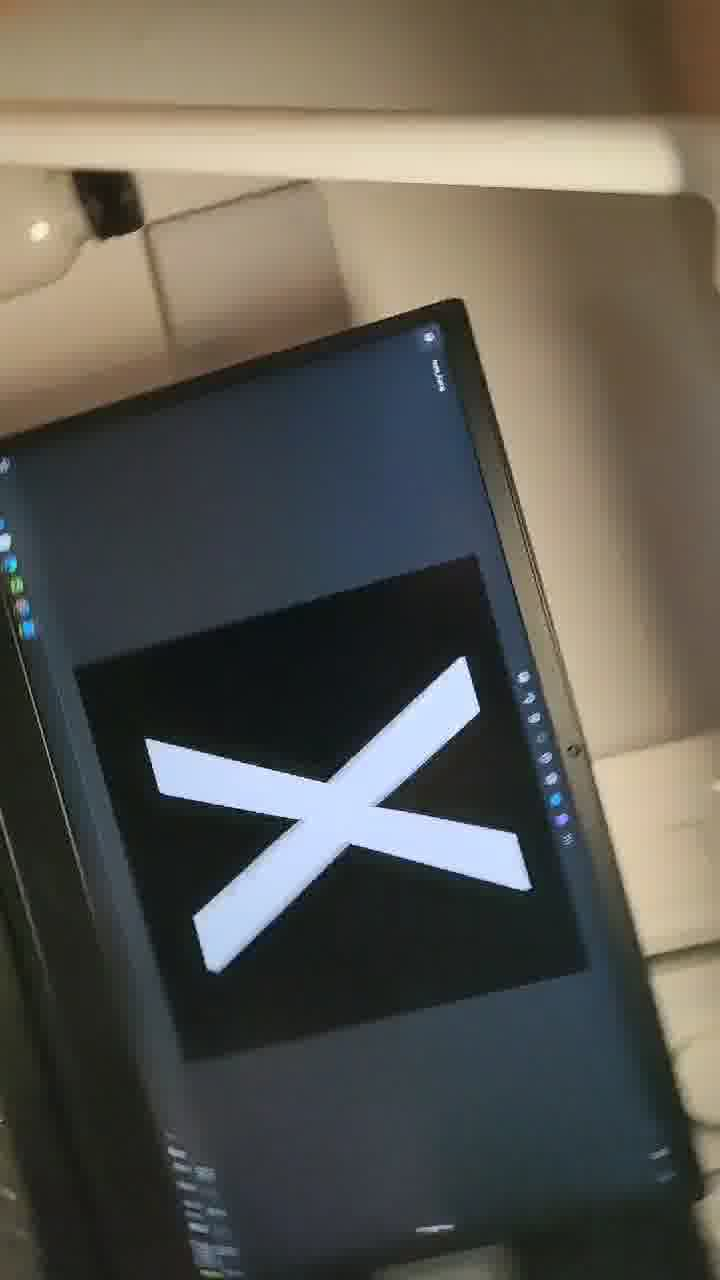X: (118, 638, 600, 989)
